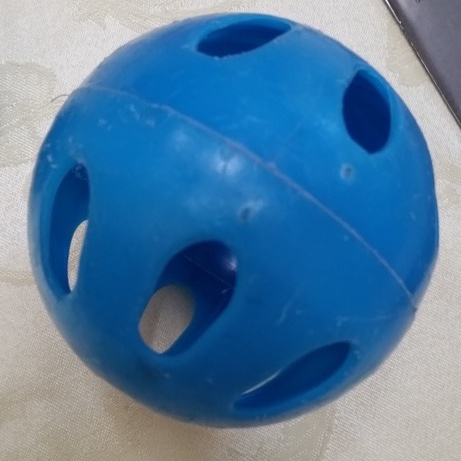blueball: (20, 6, 446, 433)
